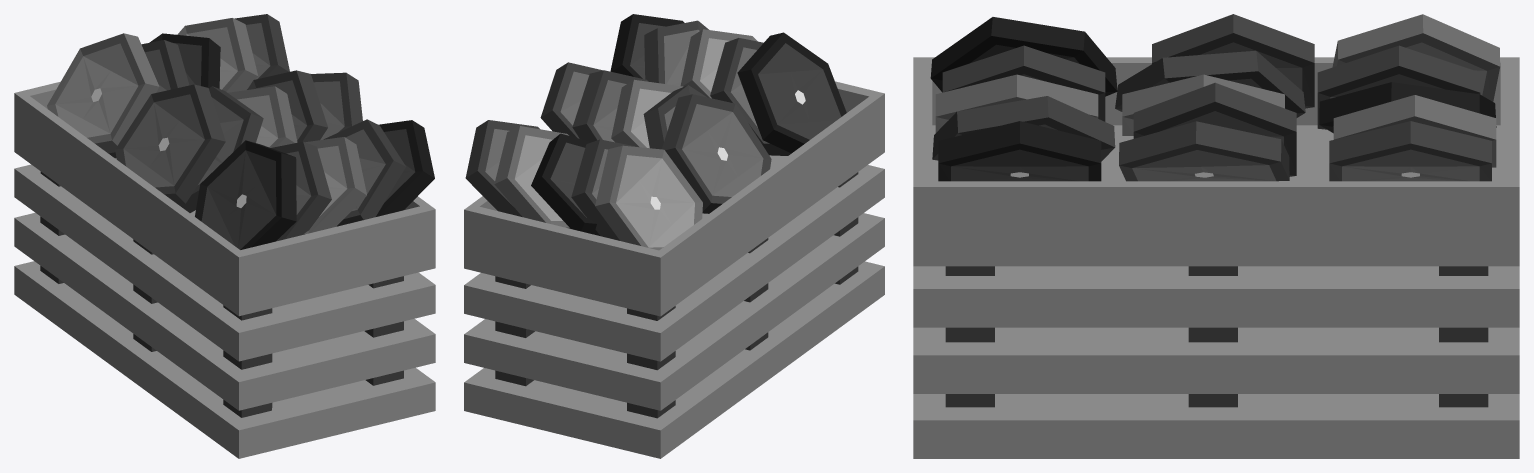
The model's file is food_stack_w_s.FBX.
3 views of the same model, side by side, from view 1: azimuth 30°, elevation 25°; view 2: azimuth 150°, elevation 25°; view 3: azimuth 270°, elevation 25° (orthographic). The views are drawn at different scales.
Parts seen in each view (by area): view 1: food_stack_w_s; view 2: food_stack_w_s; view 3: food_stack_w_s.
Part boxes in pixels (x1,y1,x2,y2): food_stack_w_s: (14, 14, 435, 458); food_stack_w_s: (464, 14, 884, 458); food_stack_w_s: (913, 14, 1519, 458).
Bounding box in the file's own units: 45.44 × 52.06 × 78.58.
